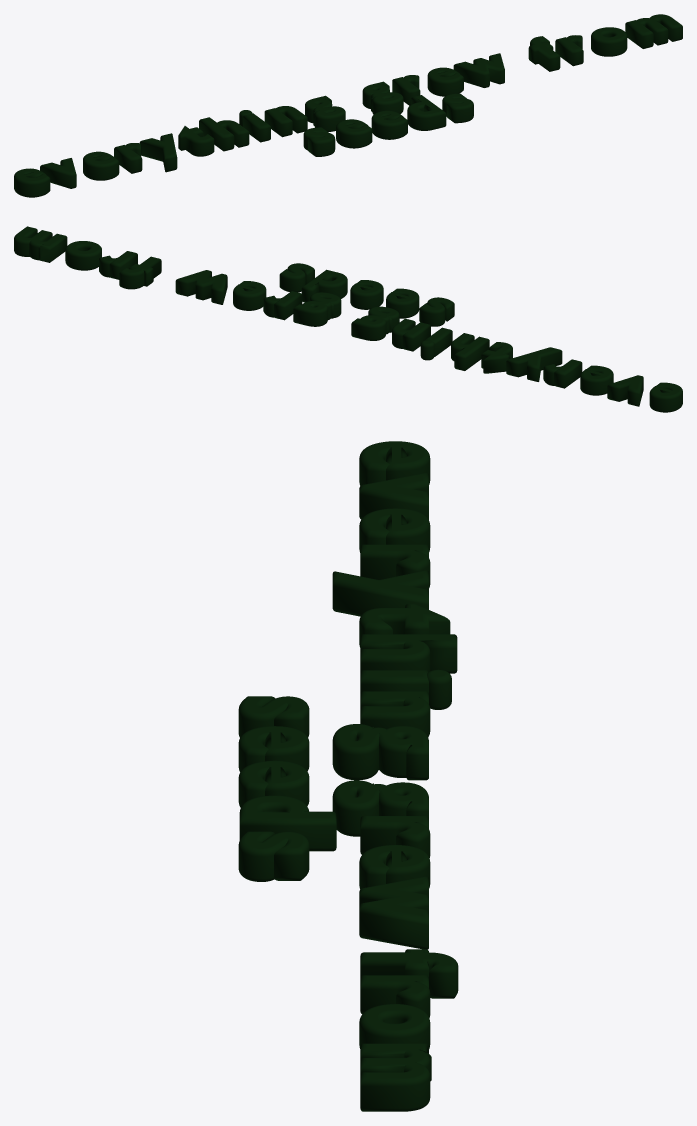
Rendered from seeds.obj.
The picture shows the model from 3 angles, top to bottom: view 1: azimuth 30°, elevation 25°; view 2: azimuth 150°, elevation 25°; view 3: azimuth 270°, elevation 25°; orthographic projection. The views are drawn at different scales.
Visible parts, largest first — view 1: Text; view 2: Text; view 3: Text.
Part boxes in pixels (left/top/right/bottom): Text: left=14, top=14, right=682, bottom=197; Text: left=14, top=226, right=682, bottom=412; Text: left=238, top=441, right=458, bottom=1111.
Size of the model in its own units: 12.58 by 0.3 by 1.82.
